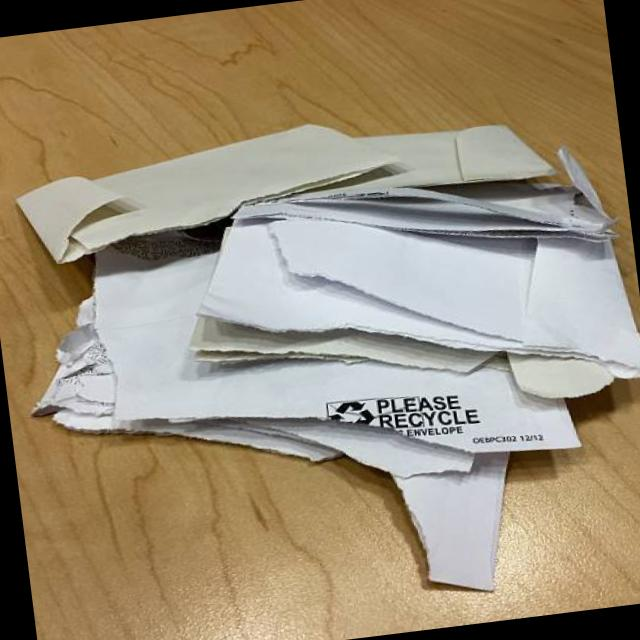electronic: (21, 229, 582, 516), (167, 137, 640, 443), (8, 92, 560, 269)
